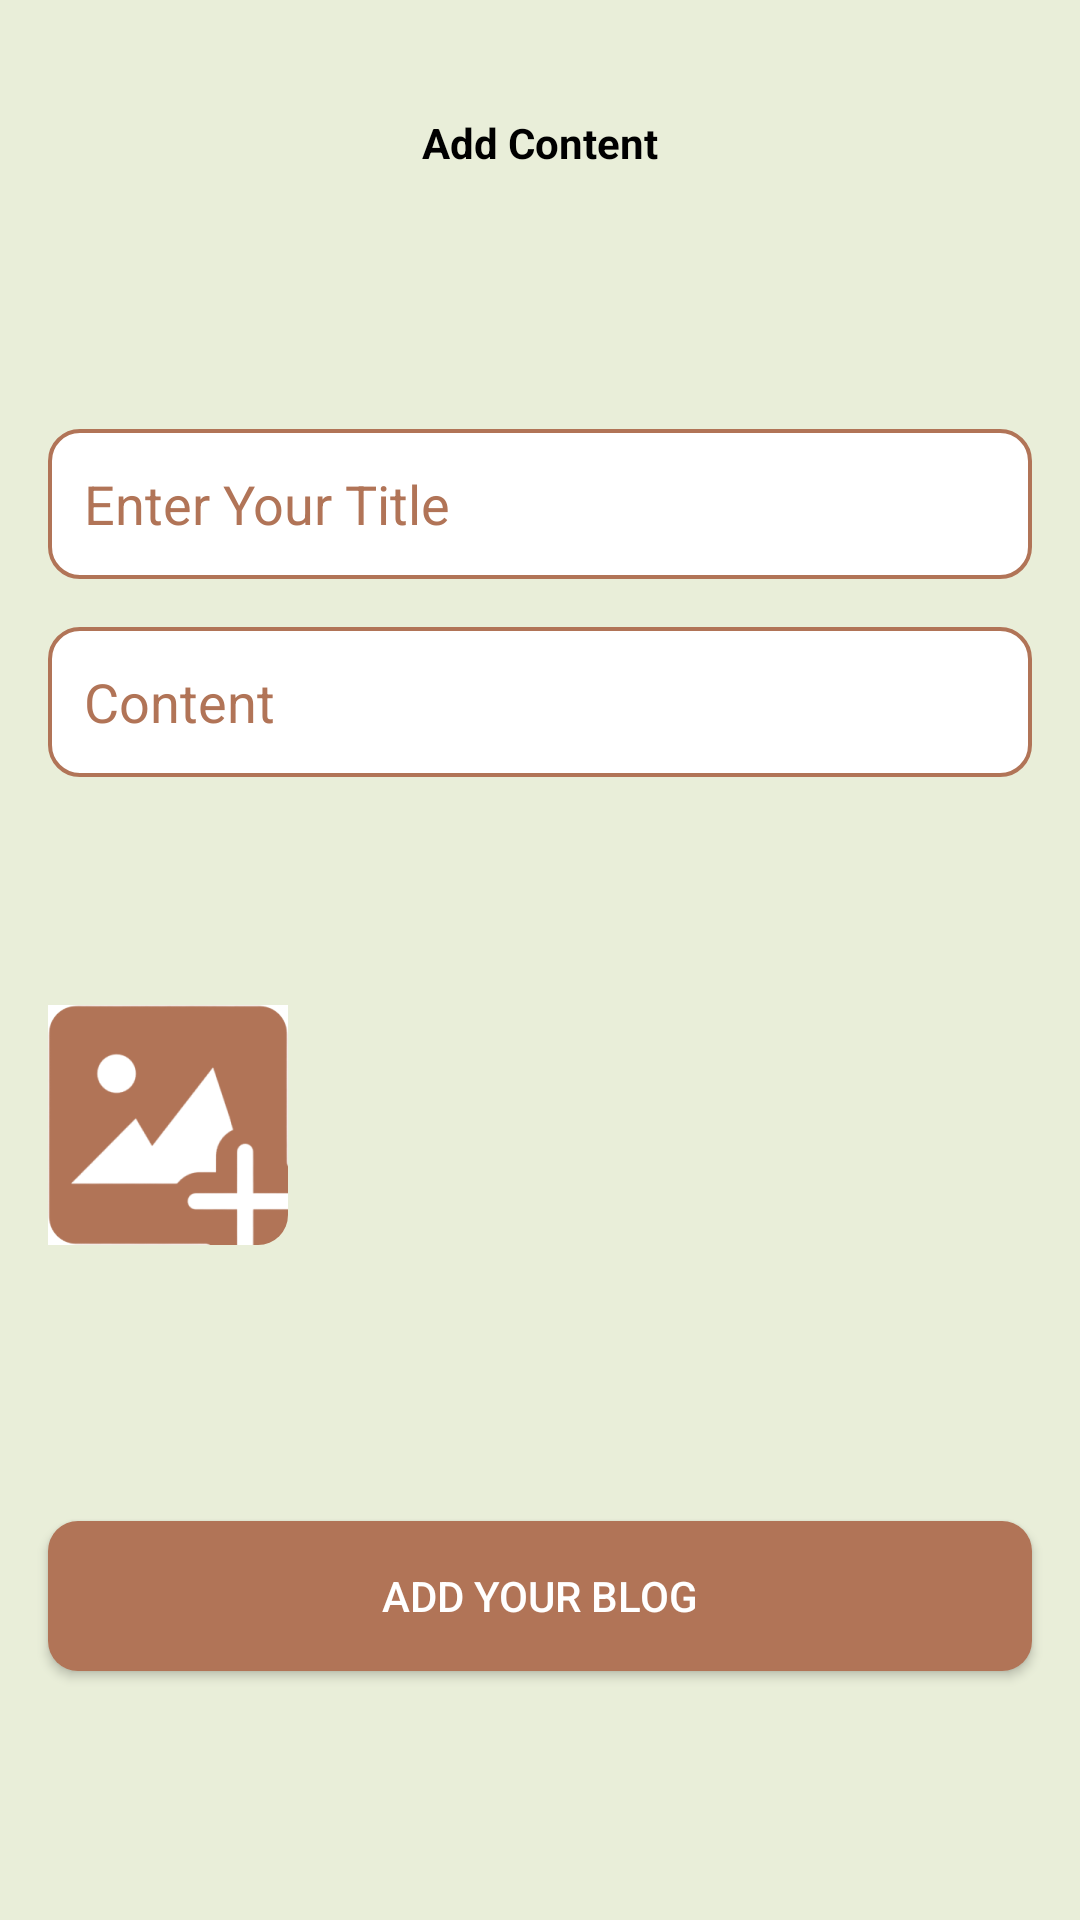

Locate icon controls on the screen. Image size 1080w x 1920h, boxes as (x1, y1, x2, y2).
uploader: (48, 1005, 288, 1245)
